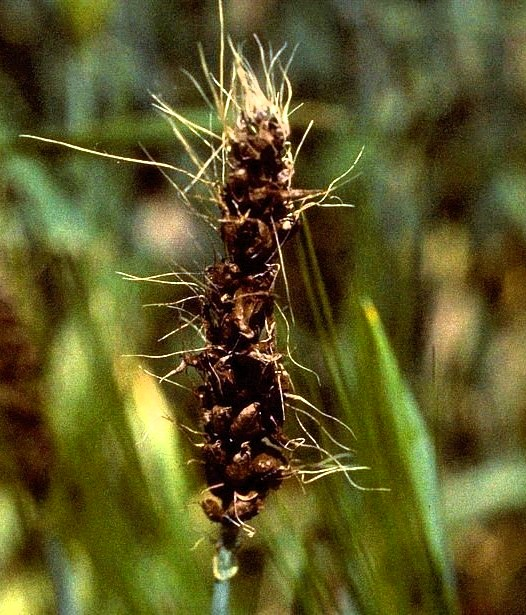Wheat Loose Smut: (176, 132, 320, 463)
